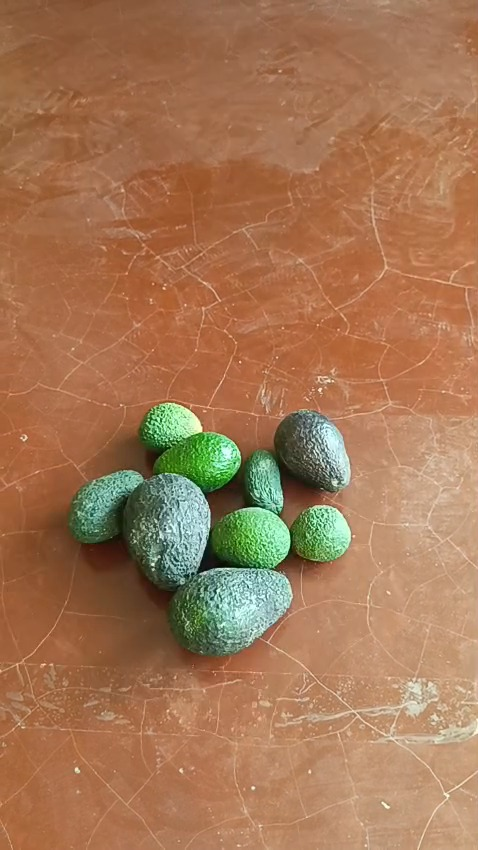Primera: (168, 566, 291, 654), (122, 473, 212, 589), (274, 410, 351, 491)
Segunda: (68, 469, 144, 543), (153, 432, 240, 494), (210, 507, 290, 569)
Tercera: (289, 505, 351, 563), (138, 402, 202, 453), (243, 449, 283, 512)
